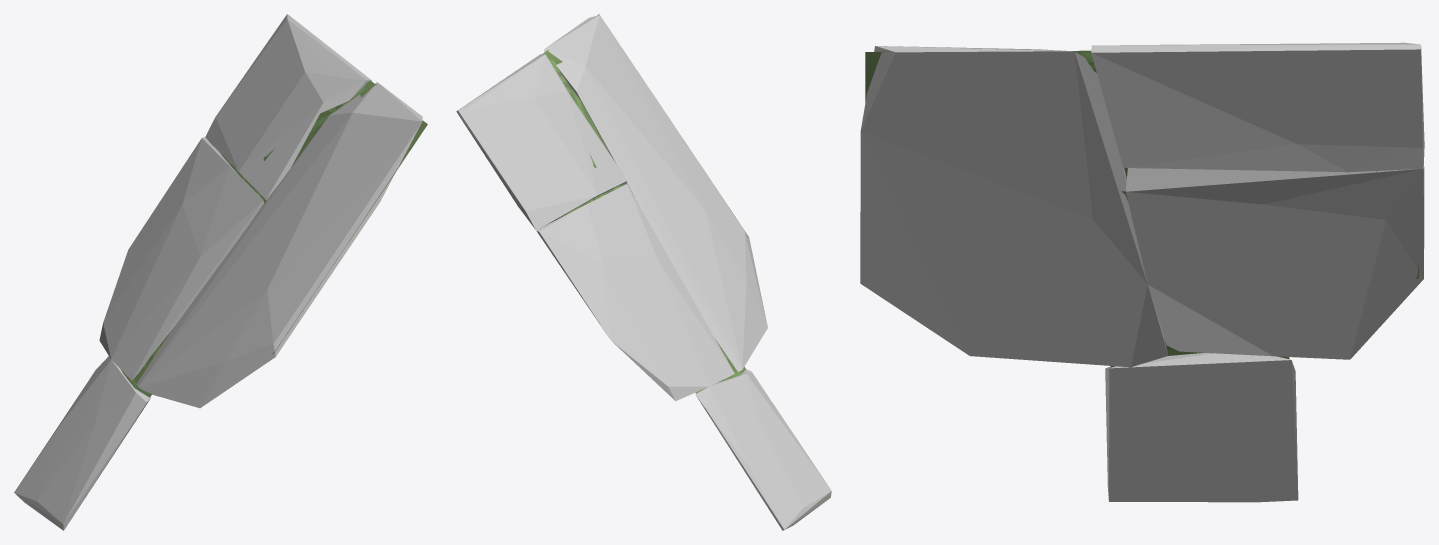
File: SM_Env_Vines_Preset_Roof_Straight_02.fbx
The picture shows the model from 3 angles, left to right: view 1: azimuth 30°, elevation 25°; view 2: azimuth 150°, elevation 25°; view 3: azimuth 270°, elevation 25°; orthographic projection. The views are drawn at different scales.
Visible parts, largest first — view 1: SM_Env_Vines_Preset_Roof_Straight_02_ConvexHulls, SM_Env_Vines_Preset_Roof_Straight_02; view 2: SM_Env_Vines_Preset_Roof_Straight_02_ConvexHulls, SM_Env_Vines_Preset_Roof_Straight_02; view 3: SM_Env_Vines_Preset_Roof_Straight_02_ConvexHulls, SM_Env_Vines_Preset_Roof_Straight_02.
Part boxes in pixels (x1,y1,x2,y2): SM_Env_Vines_Preset_Roof_Straight_02_ConvexHulls: (14, 14, 422, 530); SM_Env_Vines_Preset_Roof_Straight_02: (50, 80, 427, 527); SM_Env_Vines_Preset_Roof_Straight_02_ConvexHulls: (456, 15, 831, 530); SM_Env_Vines_Preset_Roof_Straight_02: (538, 14, 830, 504); SM_Env_Vines_Preset_Roof_Straight_02_ConvexHulls: (860, 42, 1424, 502); SM_Env_Vines_Preset_Roof_Straight_02: (865, 50, 1418, 367).
Size of the model in its own units: 192 by 158 by 230.
Materials: 3 (2 with a texture image).
